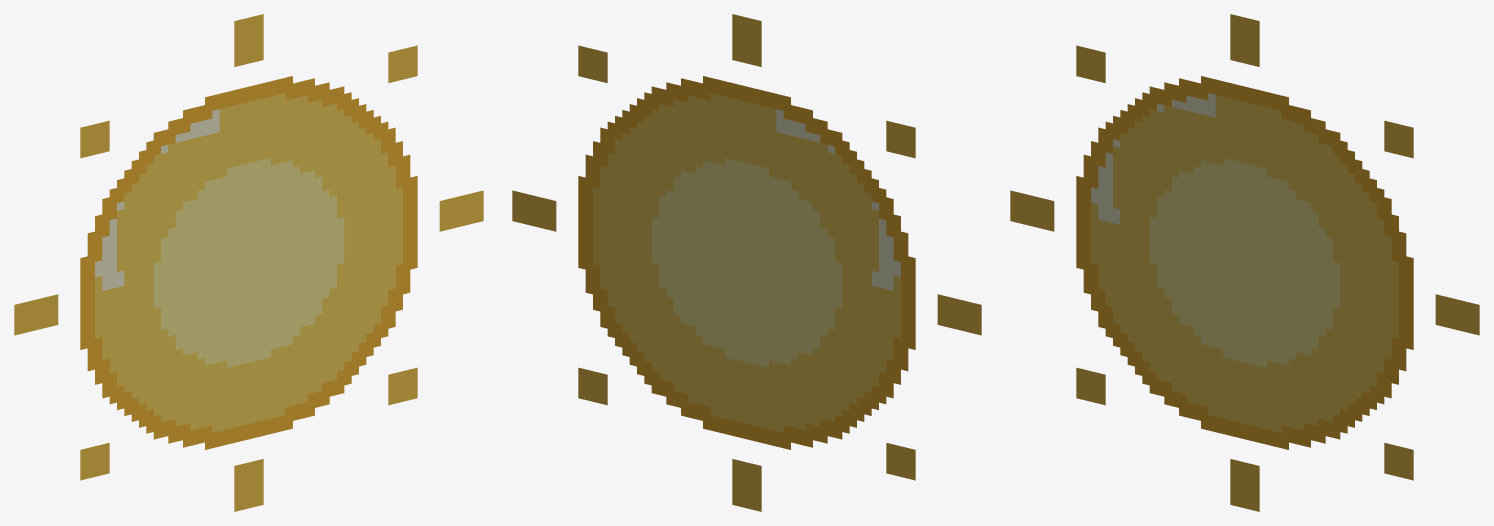
File: sun_voxel.glb
The picture shows the model from 3 angles, left to right: view 1: azimuth 30°, elevation 25°; view 2: azimuth 150°, elevation 25°; view 3: azimuth 330°, elevation 25°; orthographic projection.
Visible parts, largest first — view 1: Sun.001; view 2: Sun.001; view 3: Sun.001.
Part boxes in pixels (x1=…): Sun.001: x1=14, y1=14, x2=483, y2=511; Sun.001: x1=512, y1=14, x2=981, y2=511; Sun.001: x1=1010, y1=14, x2=1479, y2=511.
Bounding box in the file's own units: 19.2 × 19.2 × 0.
